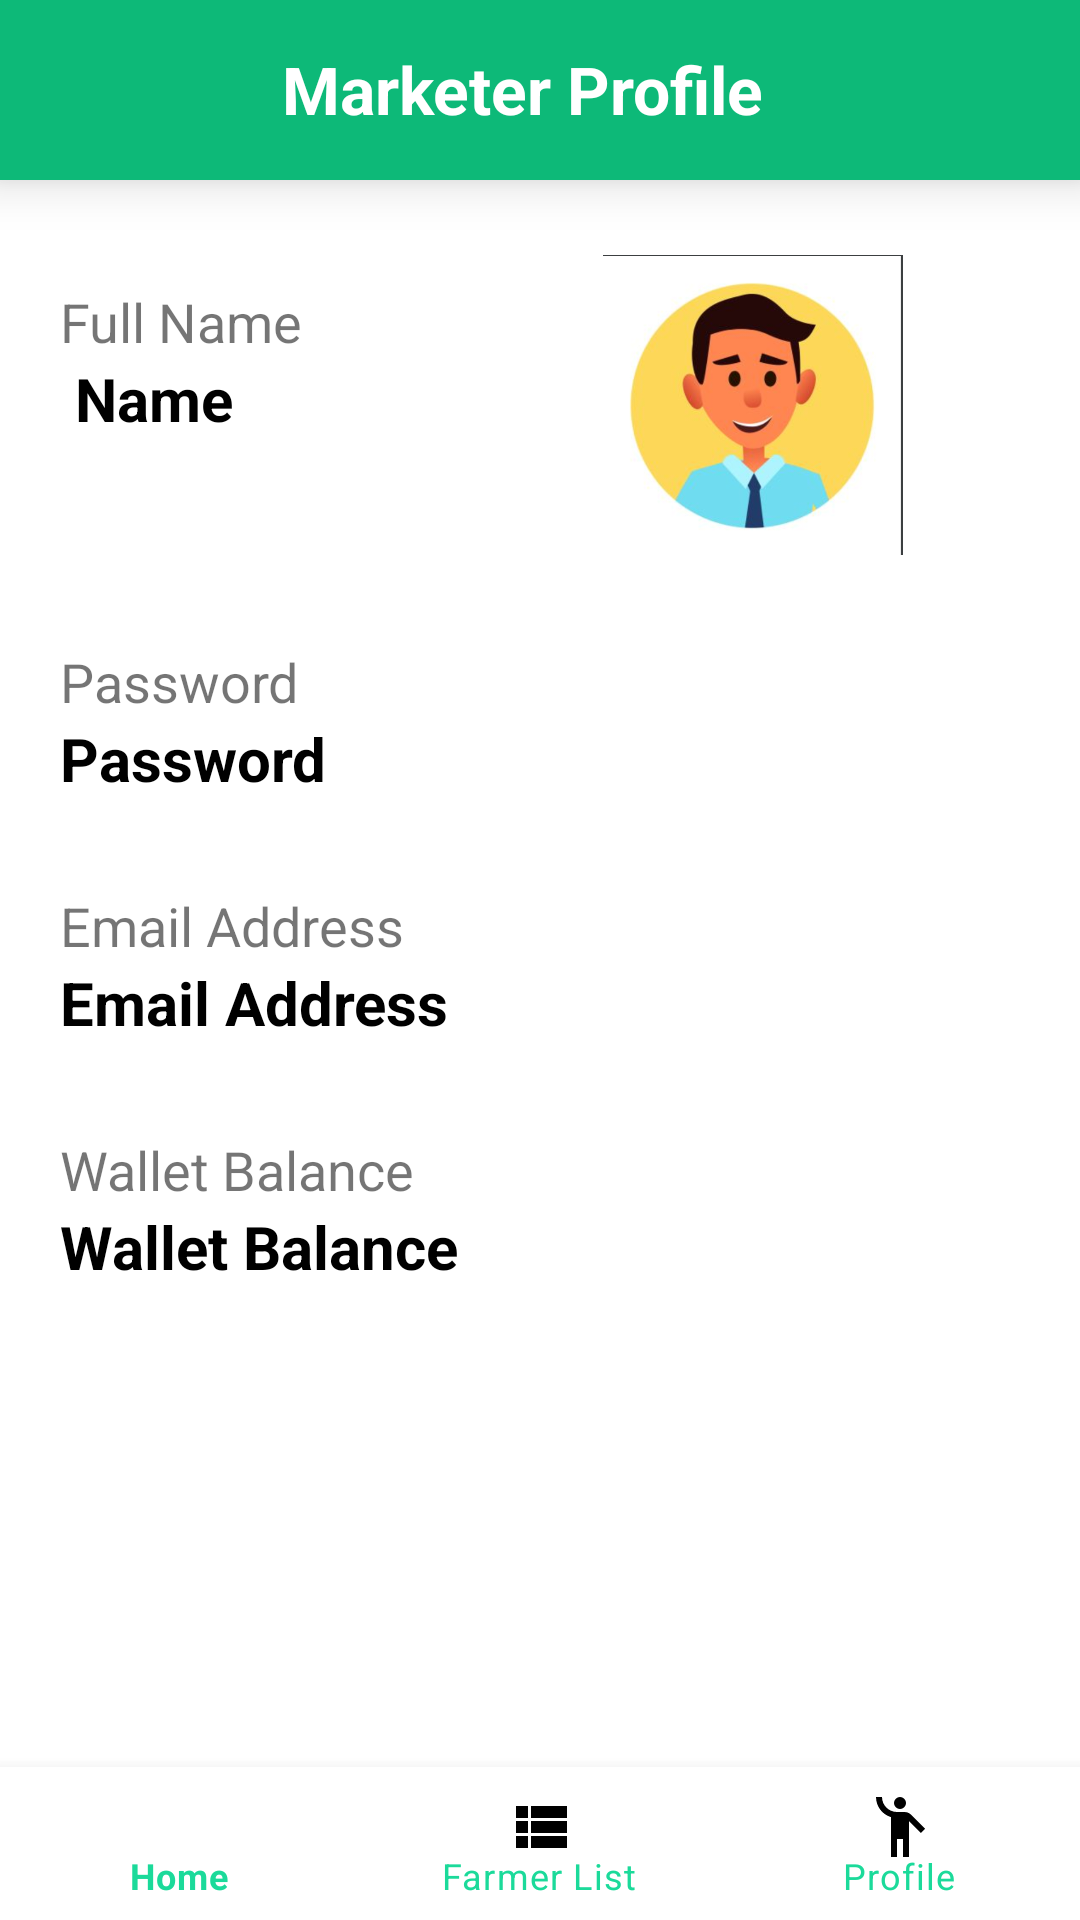

Screen size 1080×1920. Icon name, then its box in pixels as bbox(x1, y1, x2, y2):
user photo: bbox(603, 255, 903, 555)
